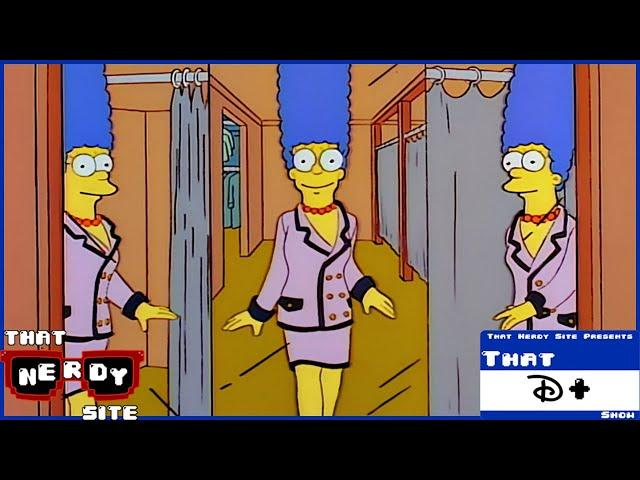Marge: (230, 59, 417, 416), (53, 65, 186, 350), (489, 62, 607, 332)
